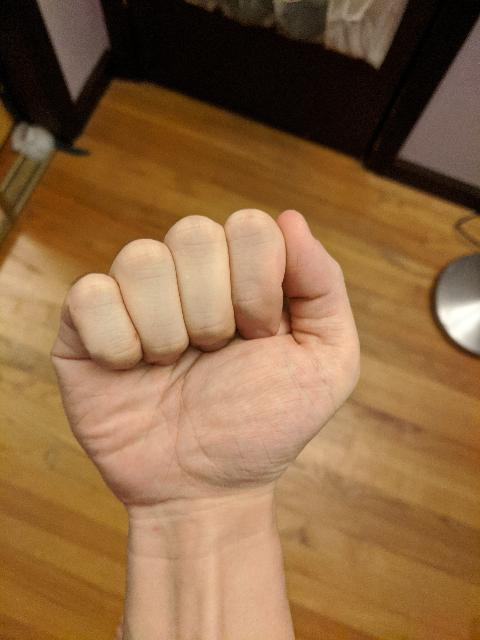A: (40, 196, 368, 518)
